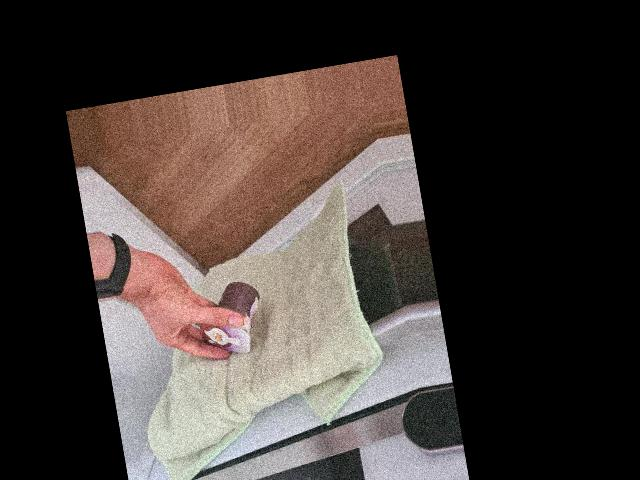milky: (194, 278, 268, 361)
